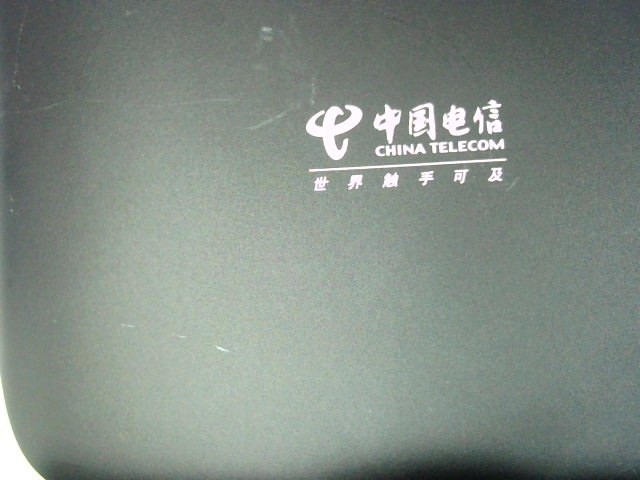AB_ChinaTelecom: (301, 99, 528, 193)
